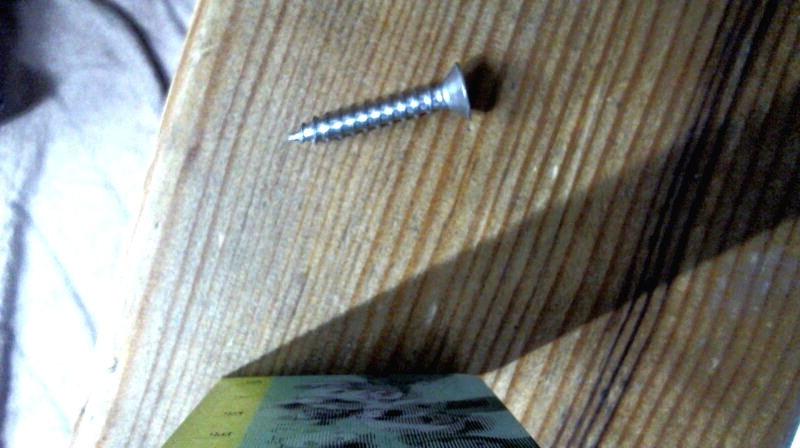S001: (279, 57, 476, 151)
